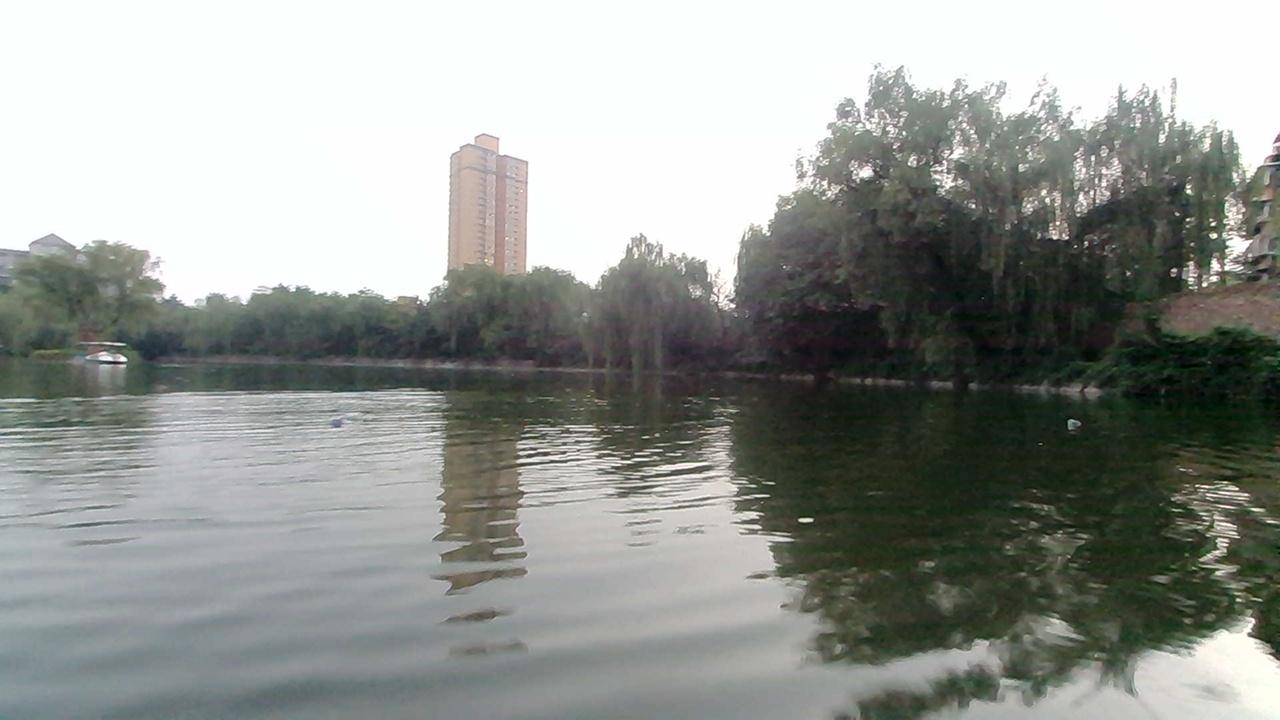bottle: (342, 412, 364, 419), (1066, 419, 1083, 427), (326, 419, 341, 428)
